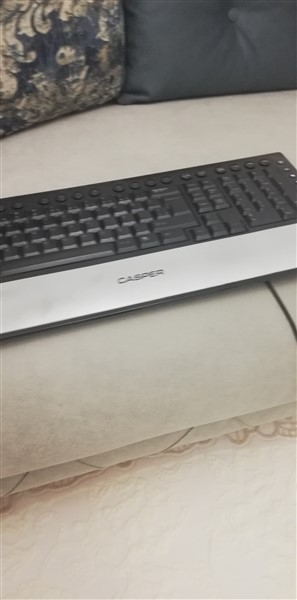klavye: (1, 149, 295, 348)
